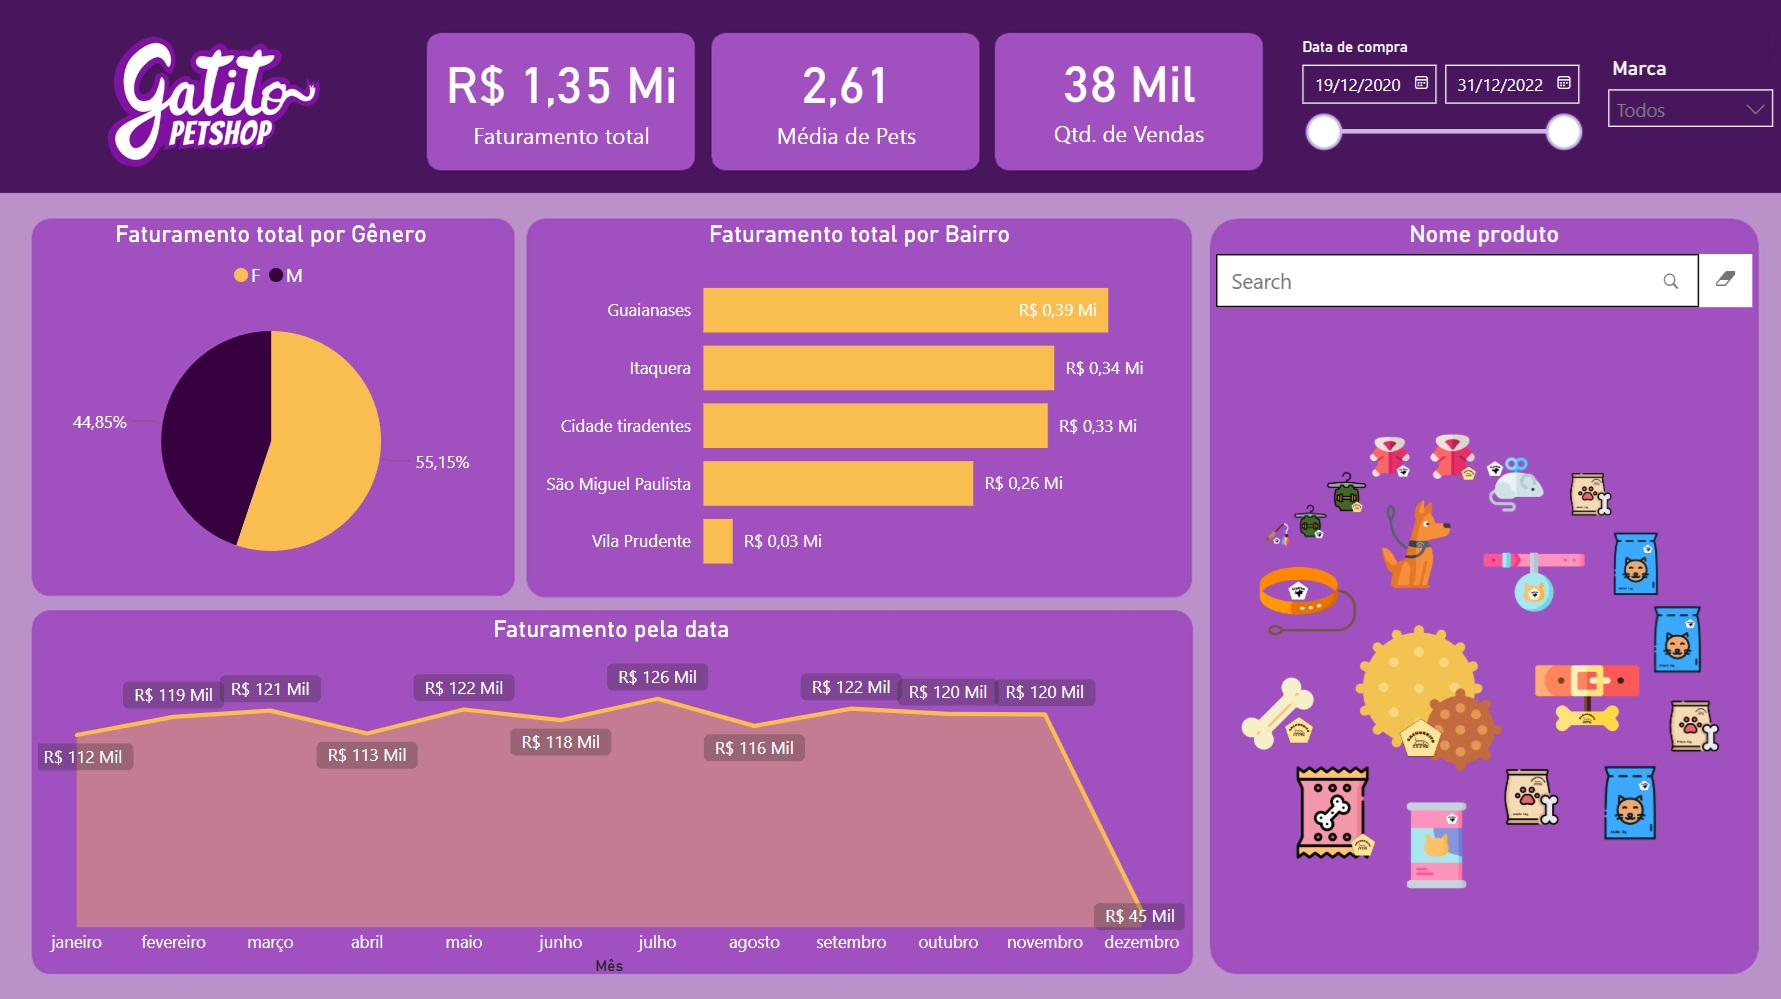

The dashboard page shown, as its layout file describes it:
{"tool":"powerbi","page":{"name":"Dashboard","canvas":[1280,720],"ordinal":1},"visuals":[{"type":"card","fields":{"Values":["Avg(Clientes.Pets)"]},"box":[514,15,188,106],"z":0},{"type":"card","fields":{"Values":["Vendas.Faturamento total"]},"box":[309,15,191,106],"z":1000},{"type":"card","fields":{"Values":["Sum(Vendas.Quantidade)"]},"box":[717,21,186,93],"z":2000},{"type":"slicer","fields":{"Values":["Vendas.Data de compra"]},"box":[921,22,221,99],"z":3000},{"type":"slicer","fields":{"Values":["Produtos.Marca"]},"box":[1142,36,138,85],"z":4000},{"type":"pieChart","fields":{"Y":["Vendas.Faturamento total"],"Category":["Clientes.Gênero"]},"box":[26,157,343,268],"z":5000},{"type":"clusteredBarChart","fields":{"Category":["Clientes.Bairro"],"Y":["Vendas.Faturamento total"]},"box":[380,157,475,268],"z":6000},{"type":"areaChart","title":"Faturamento pela data","fields":{"Category":["Vendas.Data de compra.Variation.Hierarquia de datas.Ano","Vendas.Data de compra.Variation.Hierarquia de datas.Trimestre","Vendas.Data de compra.Variation.Hierarquia de datas.Mês","Vendas.Data de compra.Variation.Hierarquia de datas.Dia"],"Y":["Vendas.Faturamento total"]},"box":[26,439,829,261],"z":7000},{"type":"ImageGrid_FC5183B9_926C_45E0_B5F7_0CE9EAF1DA9B","fields":{"ImageURL":["Produtos.Url img"]},"box":[863,244,397,456],"z":8000},{"type":"textFilter25A4896A83E0487089E2B90C9AE57C8A","fields":{"field":["Produtos.Nome produto"]},"box":[867,157,393,78],"z":9000}]}

Visuals, with their boxes in screenshot pixels (x1, y1, x2, y2), scaled from the page's 1280x720 canvas onto the 1781x999 screenshot:
card - Avg(Clientes.Pets): detection(715, 21, 977, 168)
card - Vendas.Faturamento total: detection(430, 21, 696, 168)
card - Sum(Vendas.Quantidade): detection(998, 29, 1256, 158)
slicer - Vendas.Data de compra: detection(1281, 31, 1589, 168)
slicer - Produtos.Marca: detection(1589, 50, 1780, 168)
pieChart - Vendas.Faturamento total x Clientes.Gênero: detection(36, 218, 513, 590)
clusteredBarChart - Clientes.Bairro x Vendas.Faturamento total: detection(529, 218, 1190, 590)
"Faturamento pela data" areaChart: detection(36, 609, 1190, 971)
ImageGrid_FC5183B9_926C_45E0_B5F7_0CE9EAF1DA9B - Produtos.Url img: detection(1201, 339, 1753, 971)
textFilter25A4896A83E0487089E2B90C9AE57C8A - Produtos.Nome produto: detection(1206, 218, 1753, 326)
